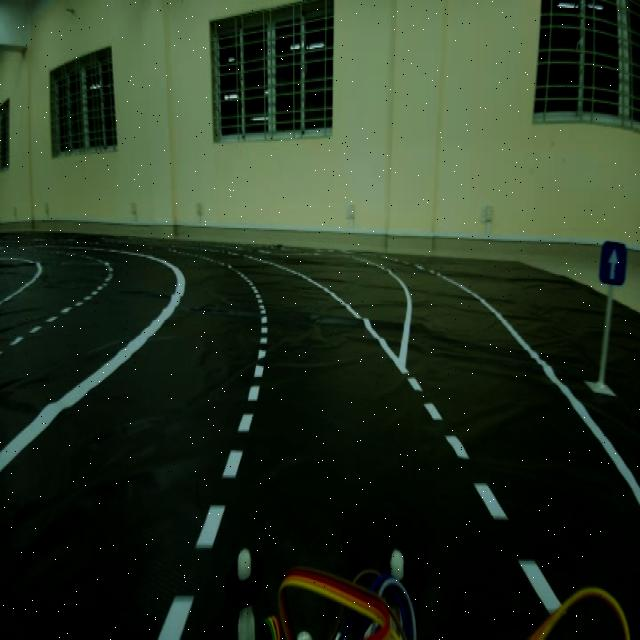onewayroad: (593, 223, 629, 301)
